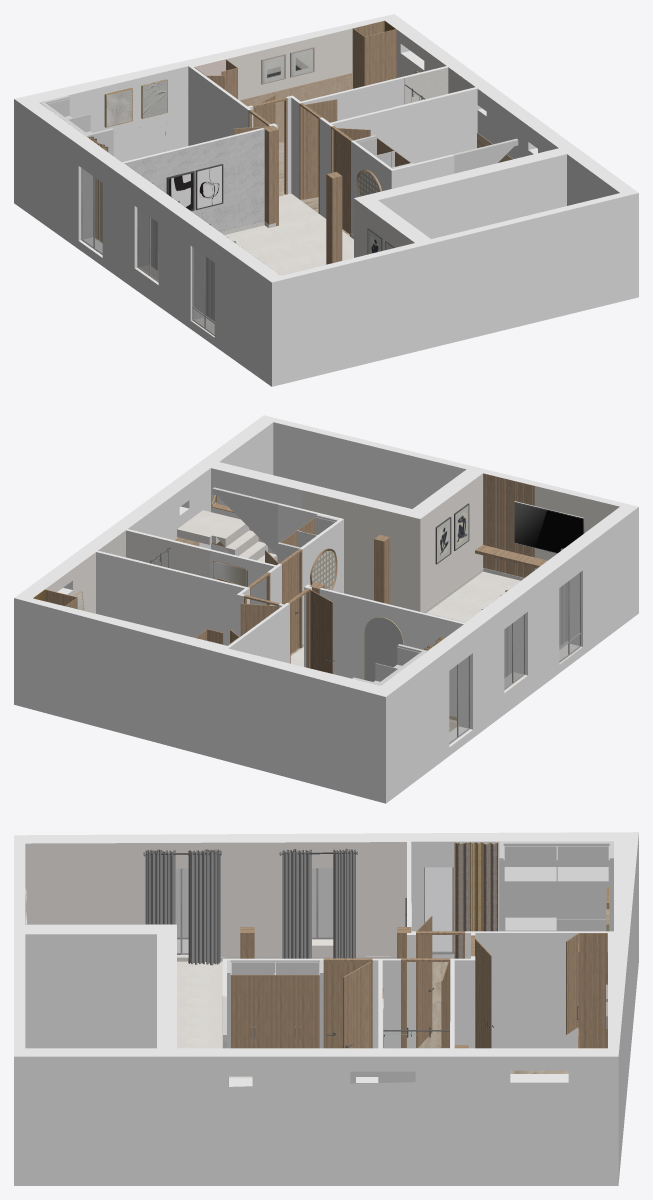
File: burgos-floor-0-room.glb
3 views of the same model, one above another, from view 1: azimuth 30°, elevation 25°; view 2: azimuth 150°, elevation 25°; view 3: azimuth 270°, elevation 25° (orthographic). The views are drawn at different scales.
Visible parts, largest first — view 1: S__1763, S__1764, S__1767, S__1775, S__1765, P193__792, S__1713, P320__1536, P210__977, P342__1718, P222__1004, P186__761 (+20 smaller); view 2: S__1763, S__1764, P320__1536, P117__493, S__1775, S__1765, P222__1004, P337__1705, P72__381, P92__459, P186__761, P126__530 (+14 smaller); view 3: S__1763, S__1764, P260__1350, S__1775, P16__159, P243__1149, P295__1449, P179__743, P13__133, P74__402, P166__710, P18__184 (+31 smaller).
Boxes of the visible parts, left/top/right/bottom form: S__1763: left=14, top=14, right=638, bottom=386; S__1764: left=135, top=21, right=468, bottom=284; S__1767: left=124, top=129, right=264, bottom=246; S__1775: left=158, top=193, right=353, bottom=337; S__1765: left=303, top=78, right=439, bottom=157; P193__792: left=303, top=99, right=337, bottom=199; S__1713: left=239, top=73, right=352, bottom=142; P320__1536: left=393, top=67, right=475, bottom=107; P210__977: left=326, top=172, right=342, bottom=264; P342__1718: left=264, top=125, right=278, bottom=226; P222__1004: left=453, top=138, right=518, bottom=173; P186__761: left=333, top=130, right=349, bottom=233; S__1763: left=14, top=415, right=638, bottom=803; S__1764: left=45, top=473, right=619, bottom=692; P320__1536: left=98, top=530, right=209, bottom=577; P117__493: left=514, top=501, right=584, bottom=553; S__1775: left=290, top=571, right=582, bottom=666; S__1765: left=209, top=504, right=317, bottom=605; P222__1004: left=212, top=487, right=279, bottom=555; P337__1705: left=310, top=590, right=333, bottom=673; P72__381: left=364, top=617, right=402, bottom=681; P92__459: left=177, top=510, right=239, bottom=544; P186__761: left=282, top=553, right=299, bottom=653; P126__530: left=486, top=474, right=495, bottom=570; S__1763: left=14, top=832, right=638, bottom=1185; S__1764: left=25, top=842, right=406, bottom=957; P260__1350: left=499, top=841, right=613, bottom=931; S__1775: left=177, top=954, right=222, bottom=1048; P16__159: left=188, top=854, right=218, bottom=959; P243__1149: left=343, top=962, right=371, bottom=1048; P295__1449: left=504, top=846, right=608, bottom=866; P179__743: left=424, top=867, right=452, bottom=952; P13__133: left=282, top=855, right=311, bottom=958; P74__402: left=283, top=854, right=308, bottom=958; P166__710: left=579, top=952, right=607, bottom=1028; P18__184: left=146, top=855, right=175, bottom=924.
Bounding box in the file's own units: 9.29 × 2.49 × 10.92.
67 materials, 44 textured.
